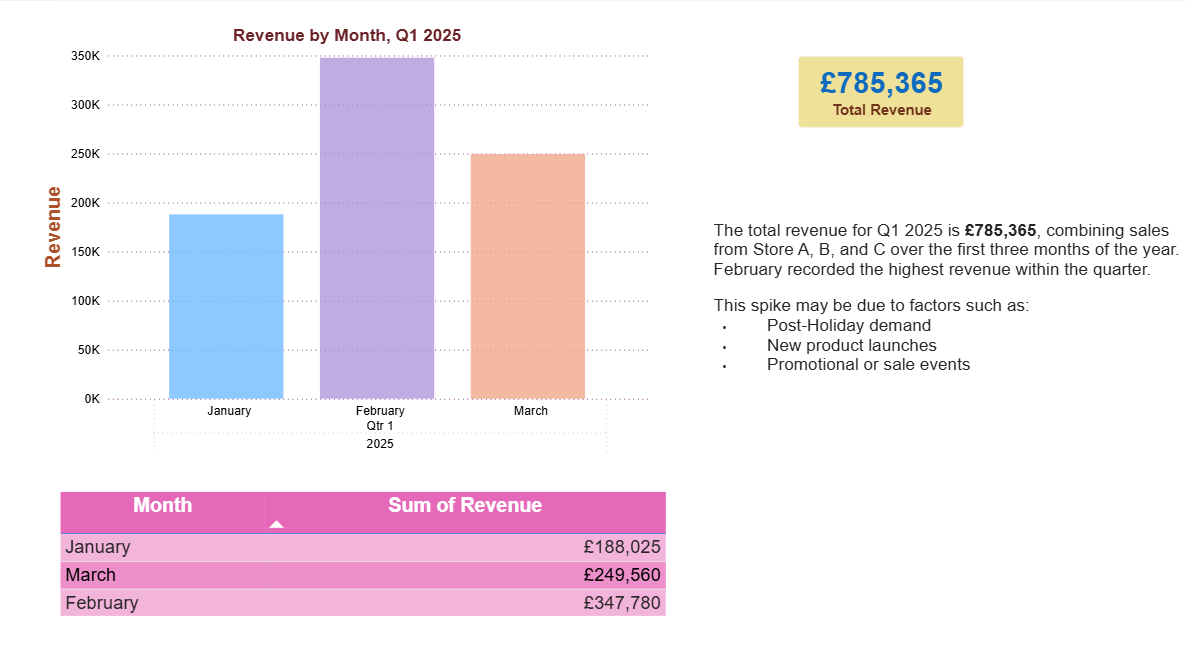

Layout of this report page (visuals, bound fields, positions):
{"tool":"powerbi","page":{"name":"What is the total revenue for Q1 2025?","canvas":[1280,720],"ordinal":1},"visuals":[{"type":"clusteredColumnChart","title":"Revenue by Month, Q1 2025","fields":{"Y":["Sum(RR-PRAC4 - retail_sales_q1_2025_large.Revenue)"],"Category":["RR-PRAC4 - retail_sales_q1_2025_large.Date.Variation.Date Hierarchy.Year","RR-PRAC4 - retail_sales_q1_2025_large.Date.Variation.Date Hierarchy.Quarter","RR-PRAC4 - retail_sales_q1_2025_large.Date.Variation.Date Hierarchy.Month"]},"box":[26.5,39.8,672.5,526.8],"z":0},{"type":"cardVisual","title":"Total Revenue Q1","fields":{"Data":["Sum(RR-PRAC4 - retail_sales_q1_2025_large.Revenue)"]},"box":[781.9,39.8,205.4,107.7],"z":1000},{"type":"textbox","box":[735.5,205.4,545,260.1],"z":2000}]}

Visuals, with their boxes in screenshot pixels (x1, y1, x2, y2), scaled from the page's 1280x720 canvas onto the 1186x661 screenshot:
"Revenue by Month, Q1 2025" clusteredColumnChart: (x1=25, y1=37, x2=648, y2=520)
"Total Revenue Q1" cardVisual: (x1=724, y1=37, x2=915, y2=135)
textbox: (x1=681, y1=189, x2=1185, y2=427)
